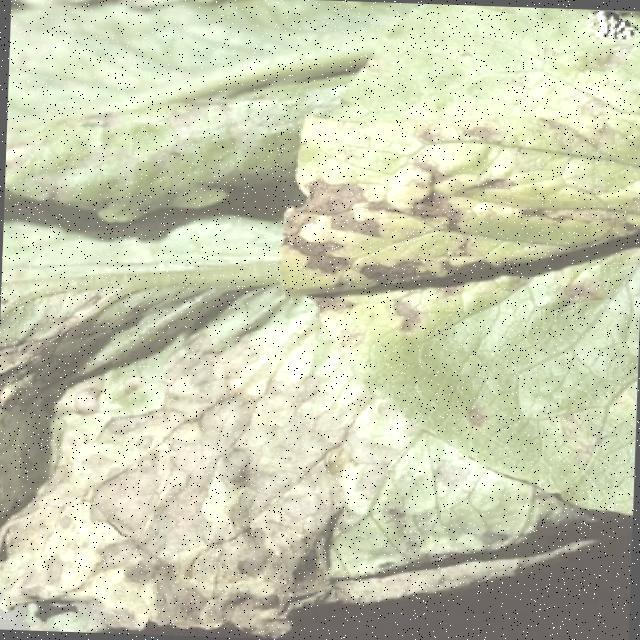Septoria_Blight_on_lettuce: (92, 379, 350, 598)
